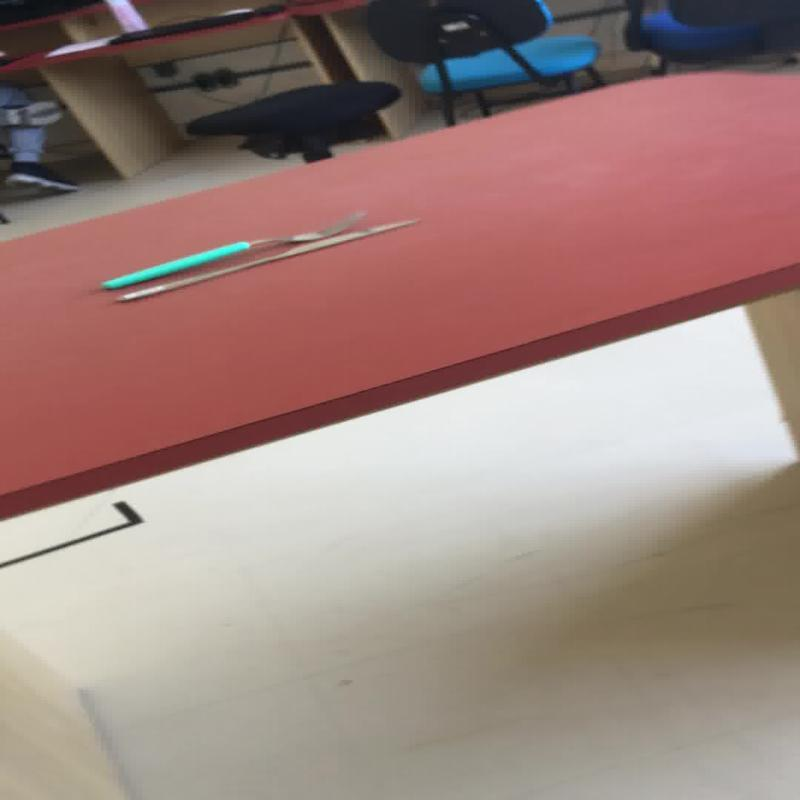fork: (98, 209, 366, 290)
knife: (110, 212, 419, 303), (97, 208, 368, 290)
